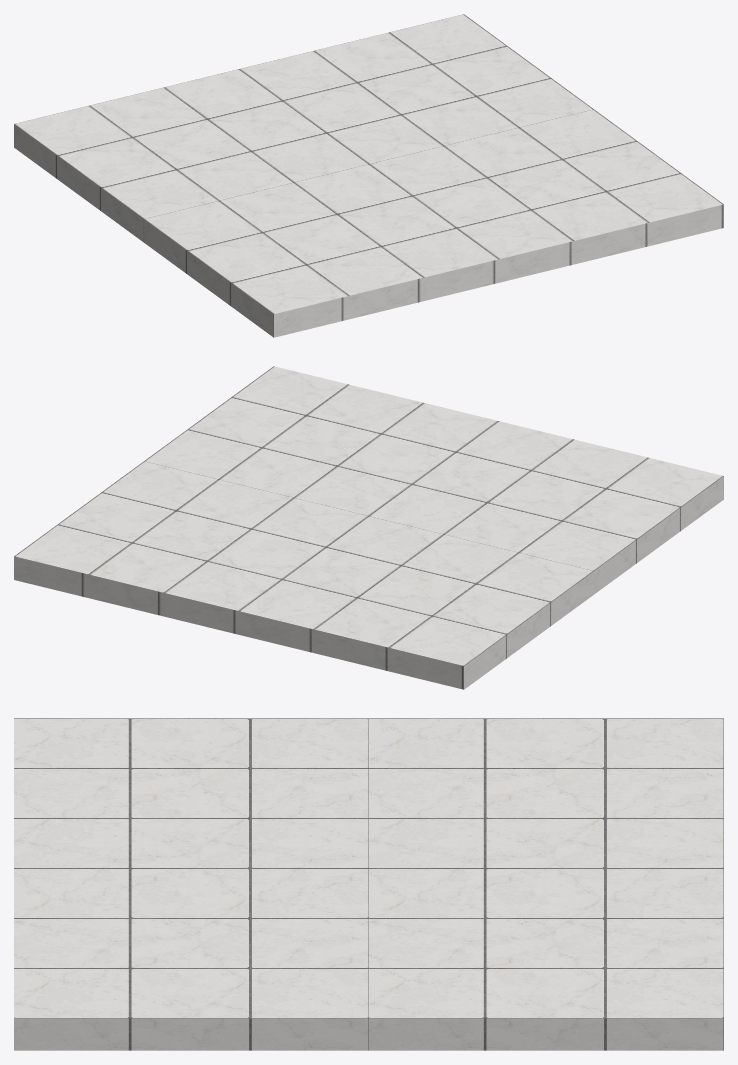
Rendered from FloorTiled_2.fbx.
3 renders of one model, top to bottom at view 1: azimuth 30°, elevation 25°; view 2: azimuth 150°, elevation 25°; view 3: azimuth 270°, elevation 25°, orthographic. The views are drawn at different scales.
Visible parts, largest first — view 1: FloorTiled_2; view 2: FloorTiled_2; view 3: FloorTiled_2.
Boxes of the visible parts, x1,y1,x2,y2 form: FloorTiled_2: [14, 14, 723, 337]; FloorTiled_2: [14, 366, 723, 689]; FloorTiled_2: [14, 718, 723, 1050].
Size of the model in its own units: 4 by 0.2 by 4.
